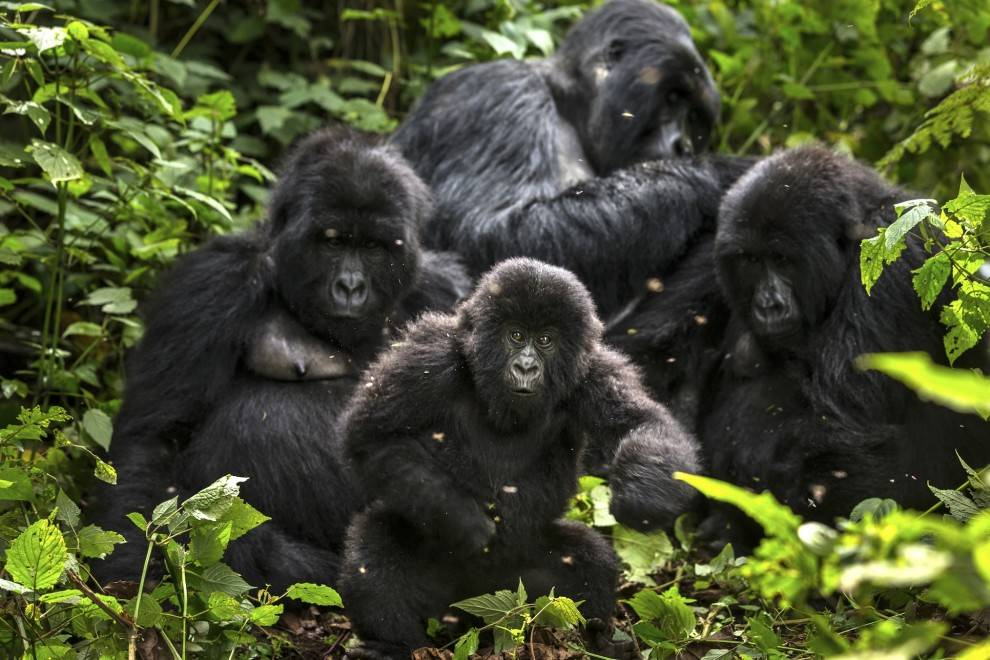Goriila: (112, 85, 434, 608), (640, 153, 990, 573), (332, 260, 694, 660), (425, 17, 734, 275)
